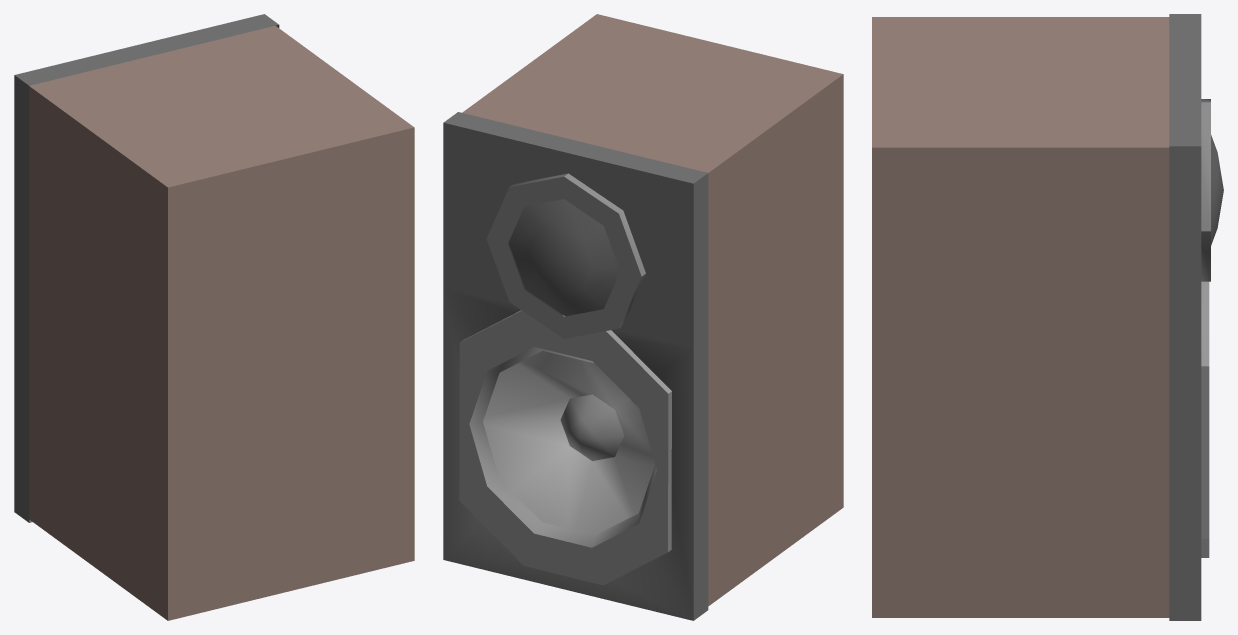
Rendered from prop_speaker.glb.
3 views of the same model, side by side, from view 1: azimuth 30°, elevation 25°; view 2: azimuth 150°, elevation 25°; view 3: azimuth 270°, elevation 25° (orthographic). The views are drawn at different scales.
Parts seen in each view (by area): view 1: prop_speaker; view 2: prop_speaker; view 3: prop_speaker.
Part boxes in pixels (left/top/right/bottom): prop_speaker: left=14, top=14, right=414, bottom=620; prop_speaker: left=443, top=14, right=843, bottom=620; prop_speaker: left=872, top=14, right=1223, bottom=620.
Bounding box in the file's own units: 0.2651 × 0.4427 × 0.2975.
